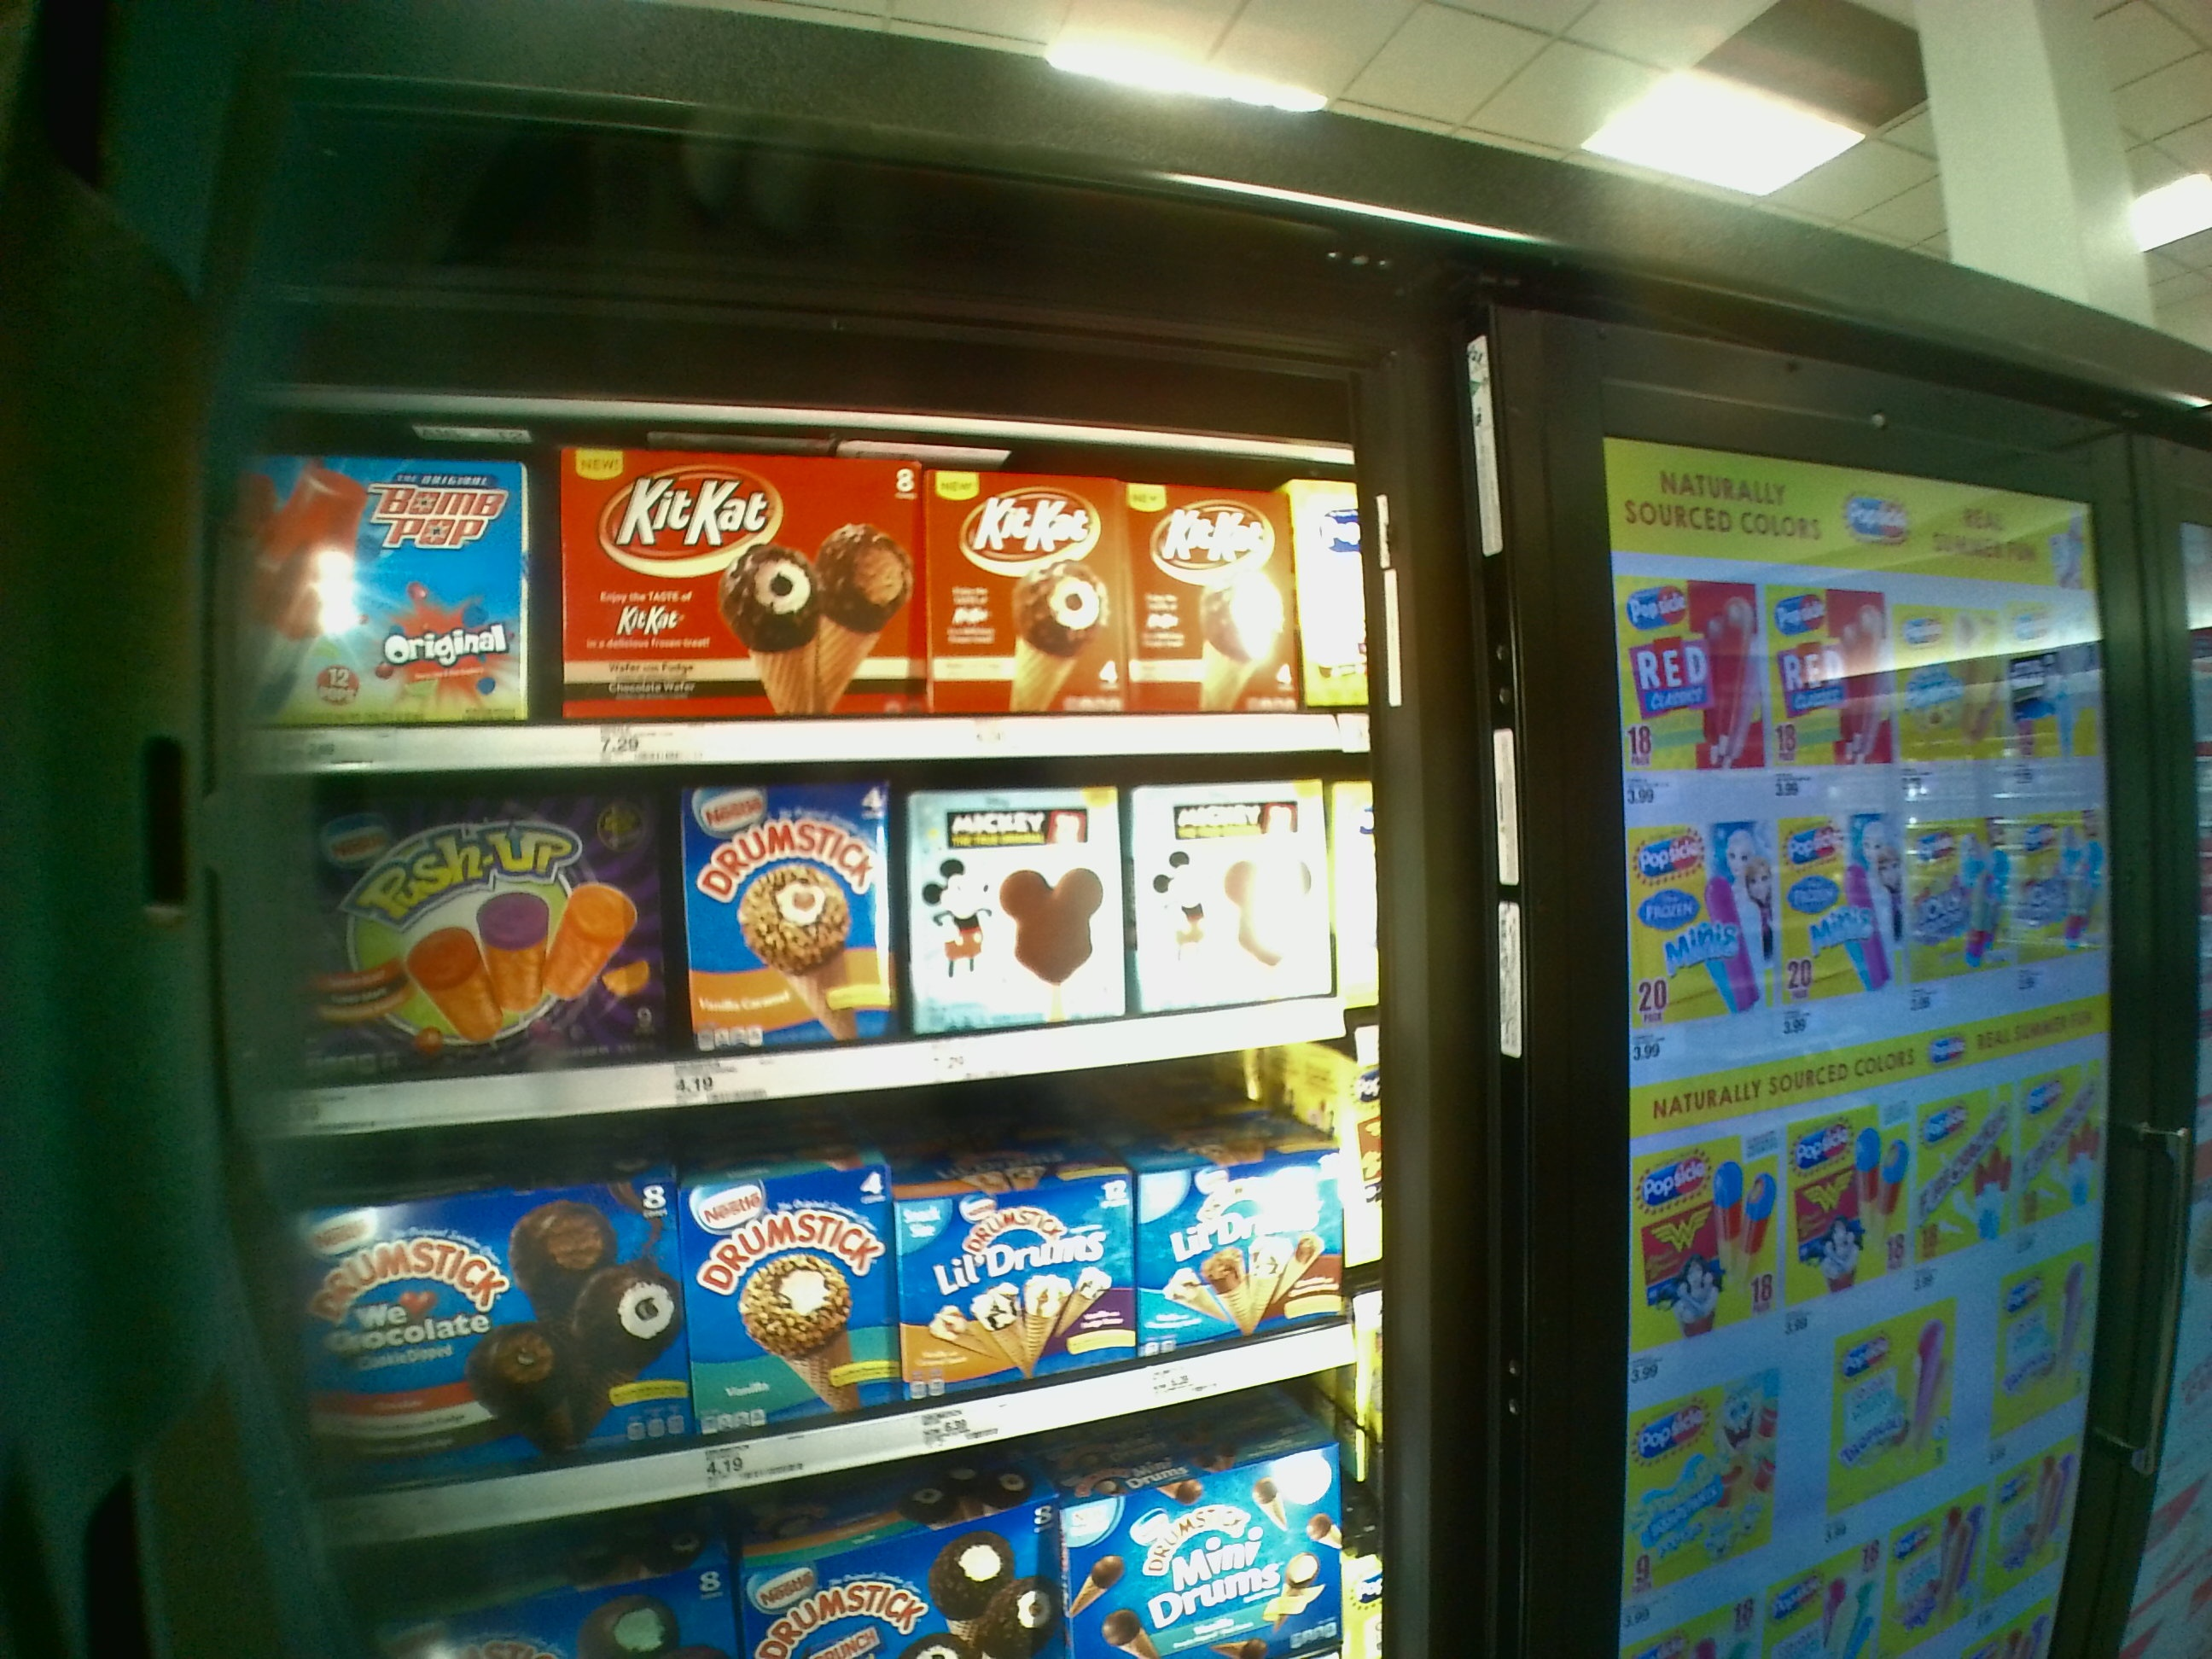shelf: (275, 1072, 1386, 1459), (239, 415, 1376, 782), (239, 782, 1402, 1105)
